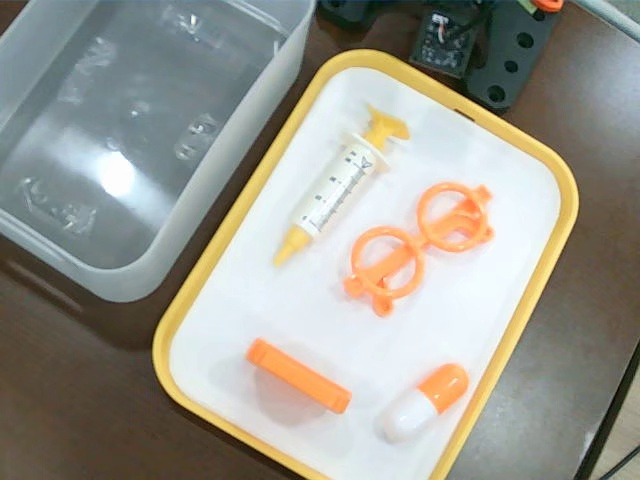pill: (373, 361, 473, 451)
syringe: (263, 97, 410, 273)
